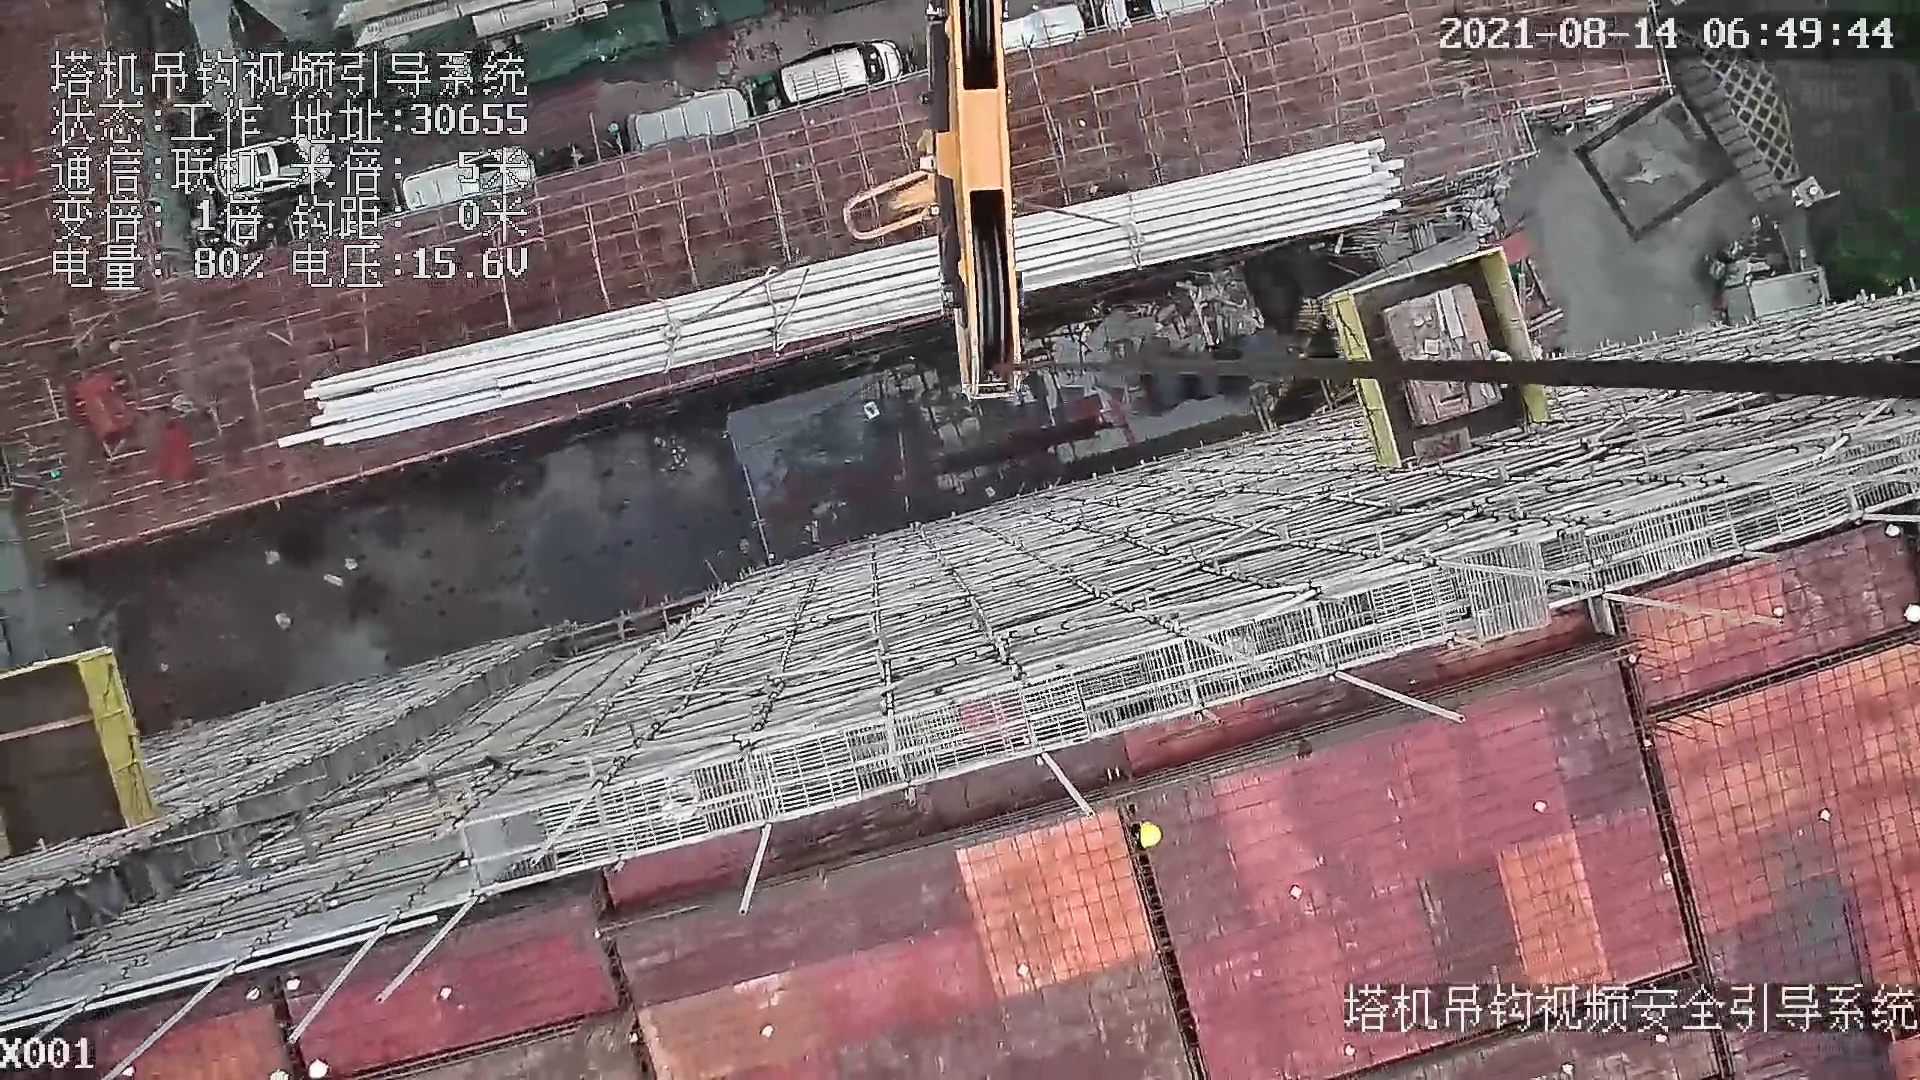helmet: (1129, 819, 1171, 855)
hook: (844, 1, 1029, 401)
